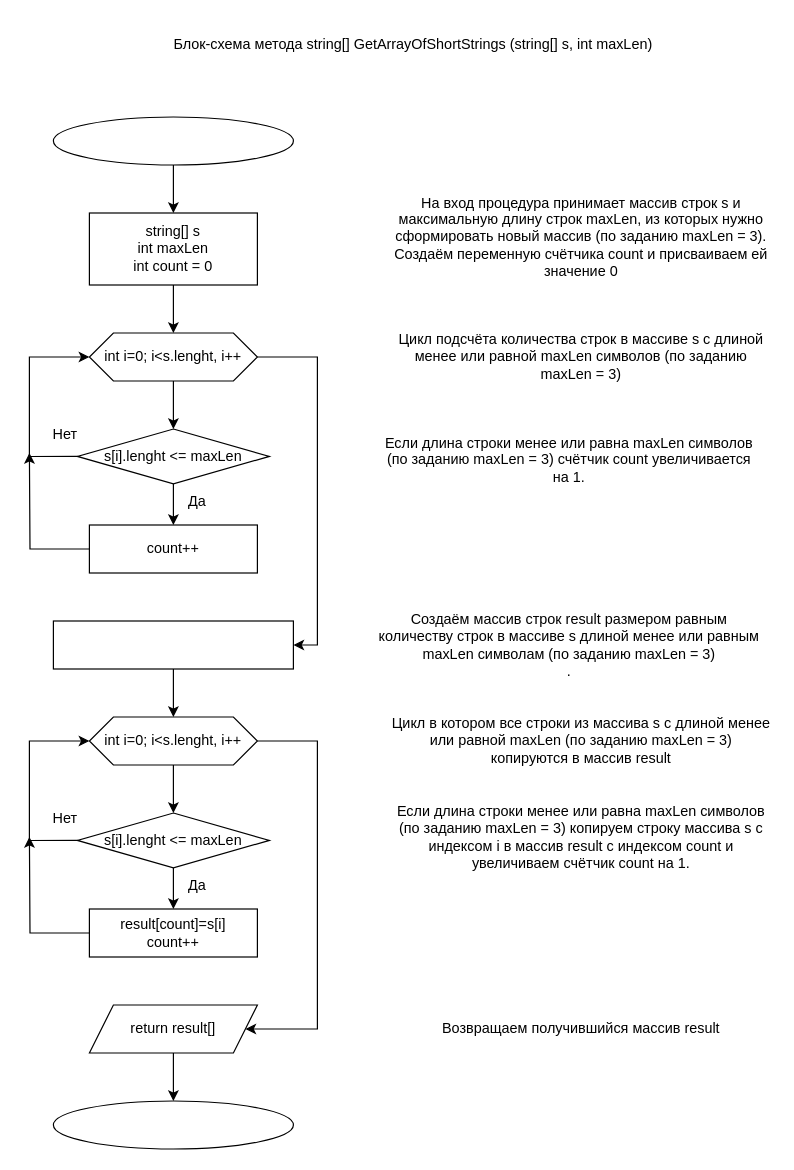
The diagram is 794 pixels wide and 1170 high, and some of its shapes have lost their labels. Each missing label, with the centre of its shape:
string[] result = new string[count] count=0: the point at 172,644
Конец: the point at 172,1124
Начало: the point at 172,140
